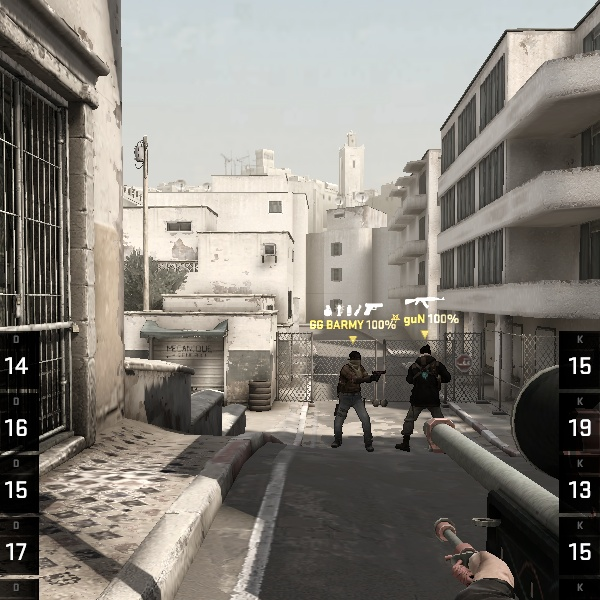t_body: (387, 342, 452, 457), (322, 347, 384, 454)
